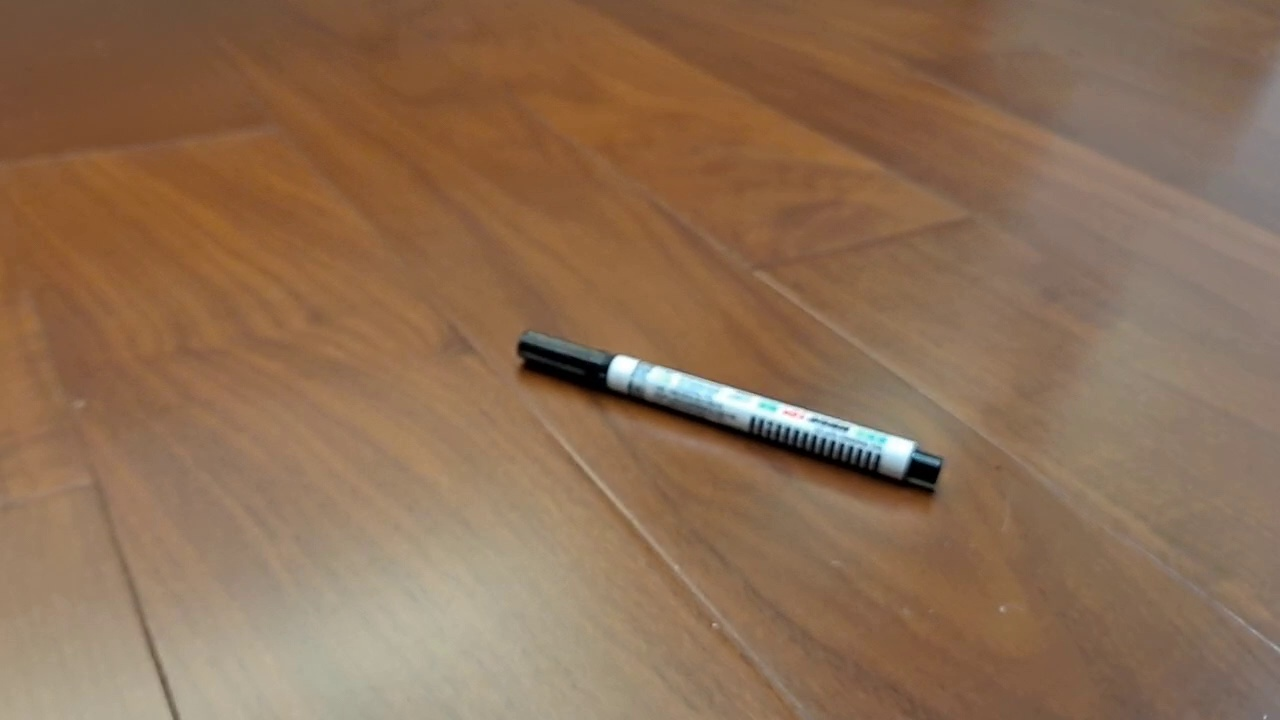pen: (516, 329, 944, 485)
